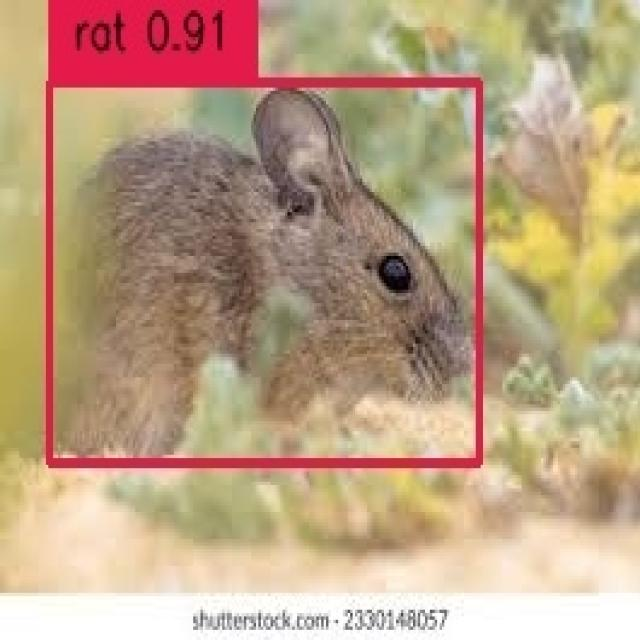rat: (46, 78, 476, 458)
